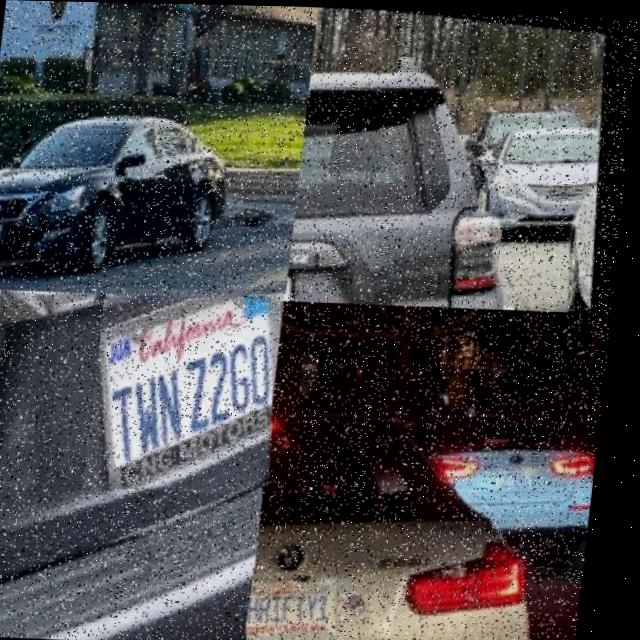LicensePlate: (108, 292, 283, 488), (258, 573, 353, 632), (0, 222, 12, 238)
